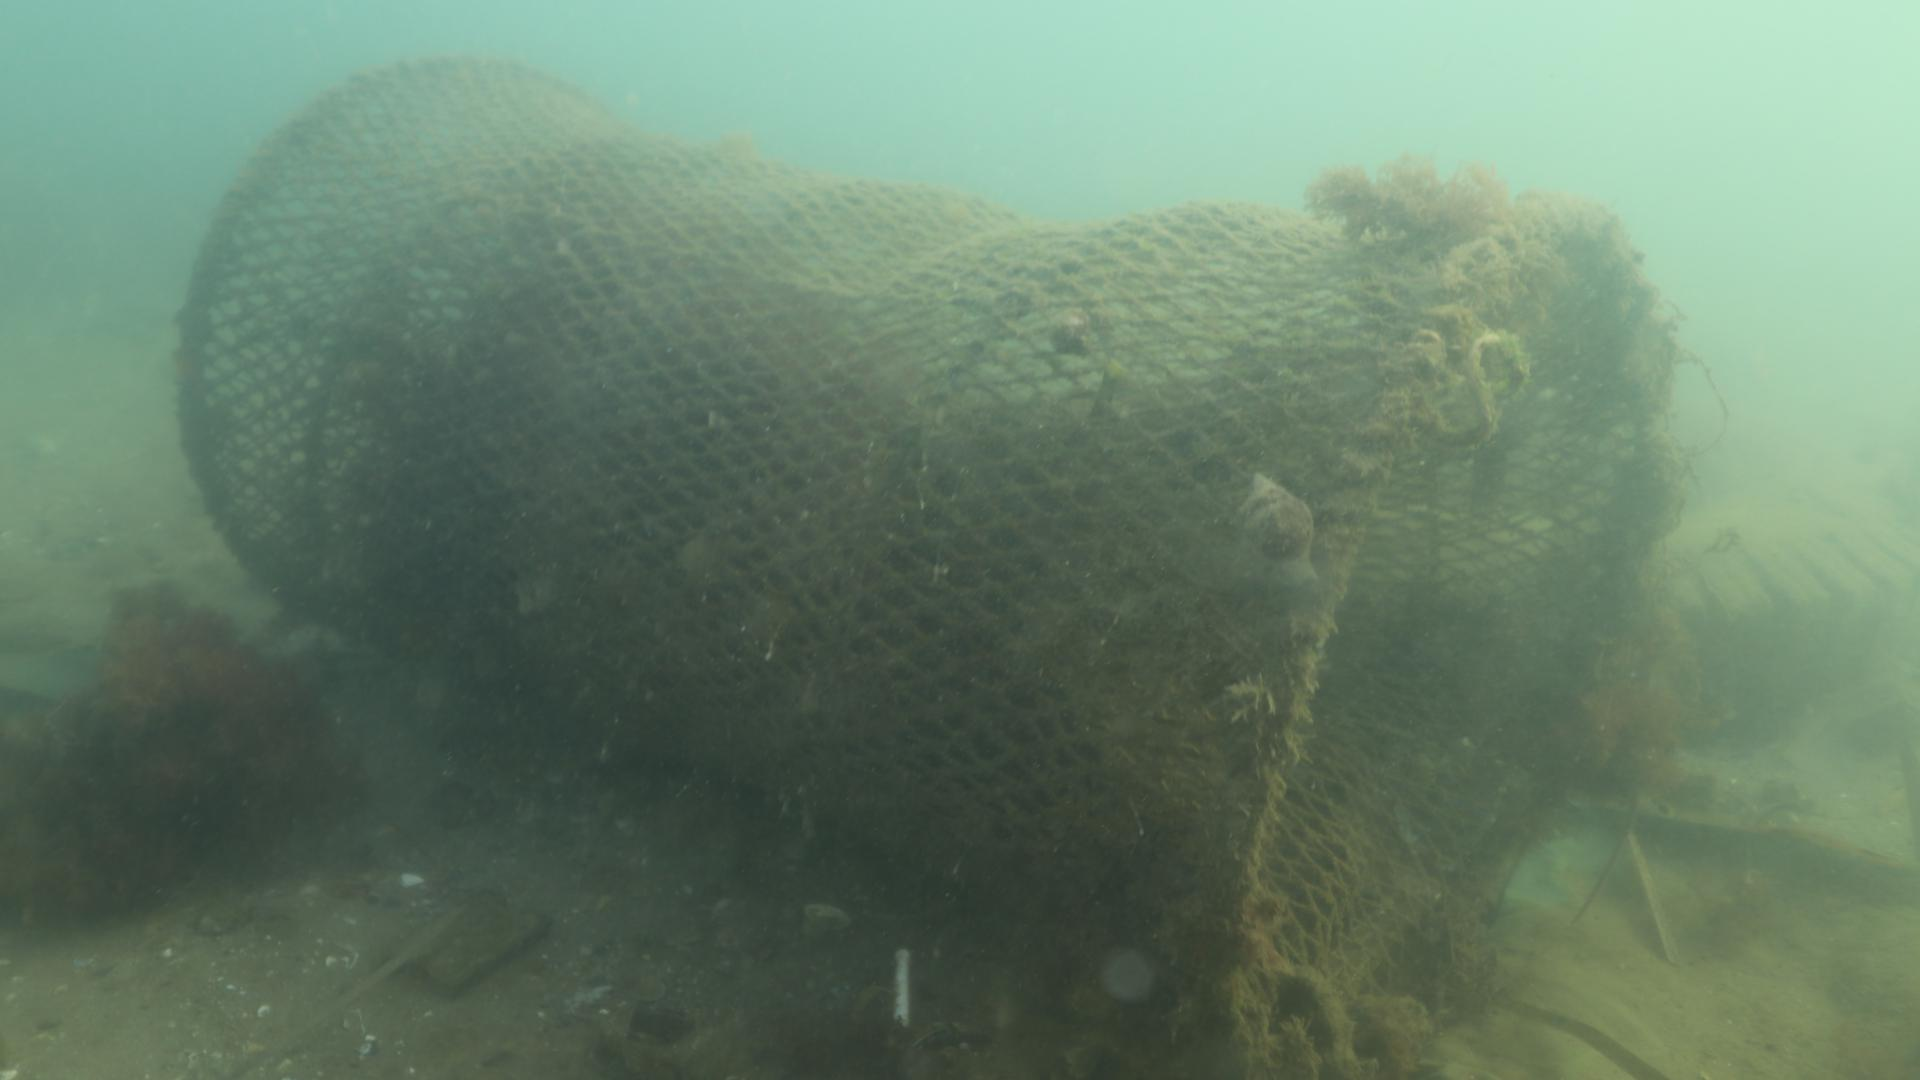spring fish trap: (167, 49, 1672, 1075)
